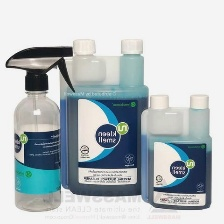cleaning_solution: (56, 35, 153, 198), (3, 43, 76, 214), (139, 90, 213, 213)
